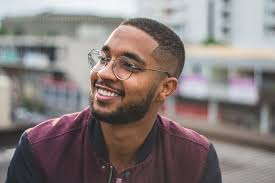black_male: (80, 1, 180, 133)
